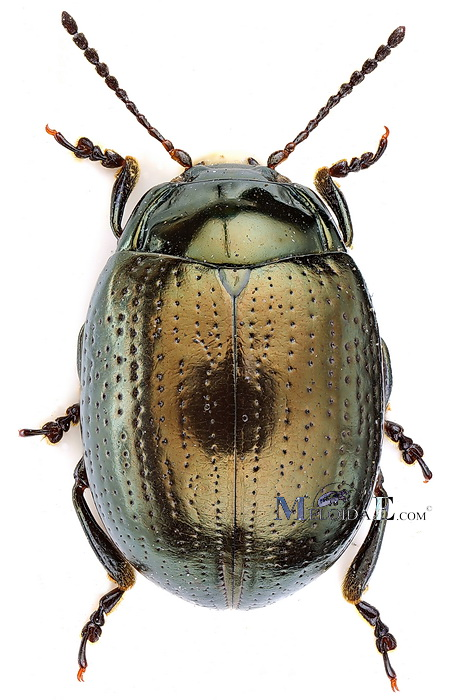Chrysolina_oricalcia: (14, 4, 437, 693)
